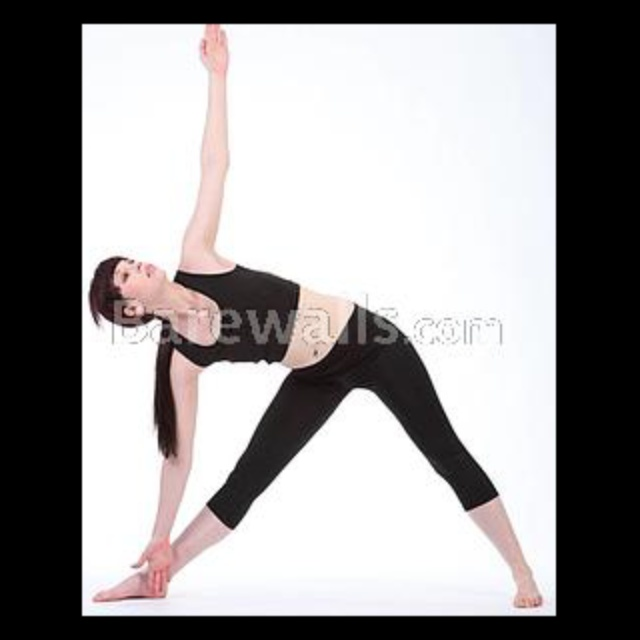Triangle_Pose: (82, 24, 548, 609)
